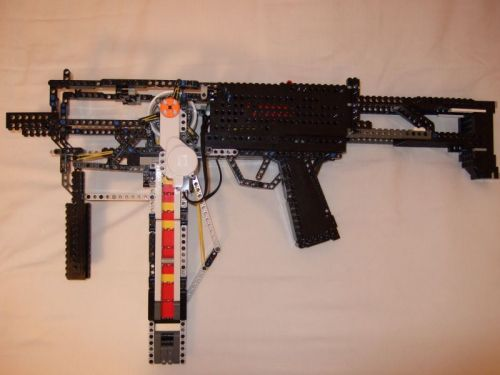rifle: (14, 55, 493, 364)
